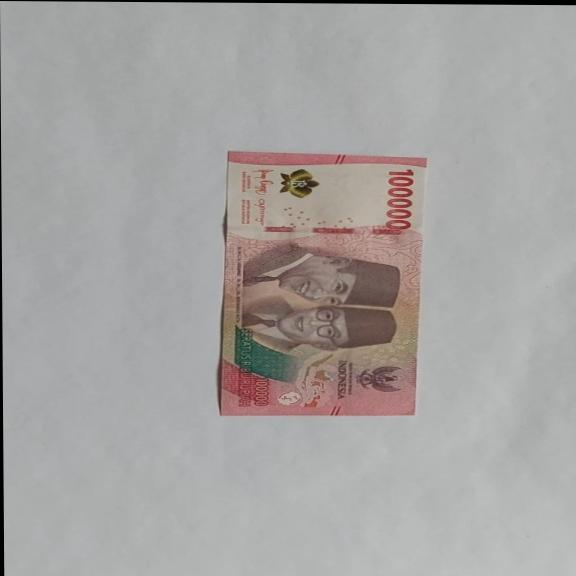Kertas: (215, 150, 427, 417), (383, 168, 415, 230)
